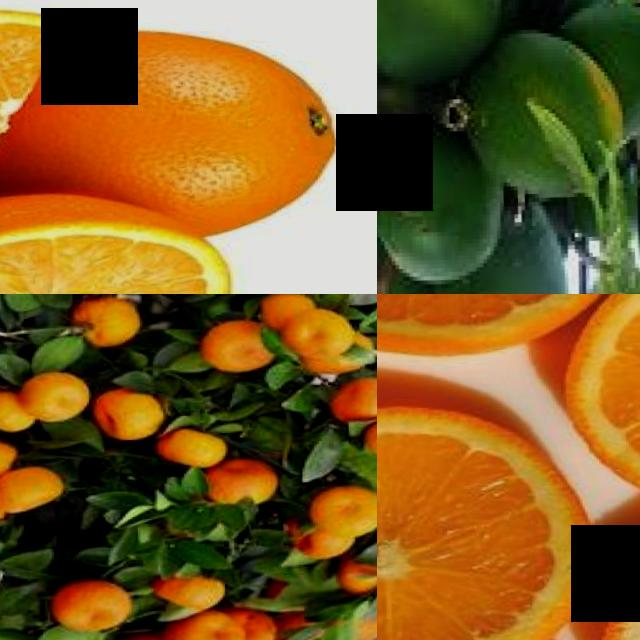orange: (32, 14, 347, 222), (377, 386, 607, 640), (0, 198, 243, 294), (377, 294, 640, 377), (37, 575, 128, 636), (268, 308, 354, 370), (192, 321, 266, 382), (83, 389, 159, 448), (297, 489, 377, 545), (16, 368, 86, 426), (199, 463, 272, 513), (74, 295, 141, 349), (0, 461, 61, 520), (322, 378, 377, 432), (150, 607, 240, 640), (355, 415, 377, 468)
pawpaw: (450, 29, 620, 196), (377, 133, 497, 288), (377, 0, 503, 91)
